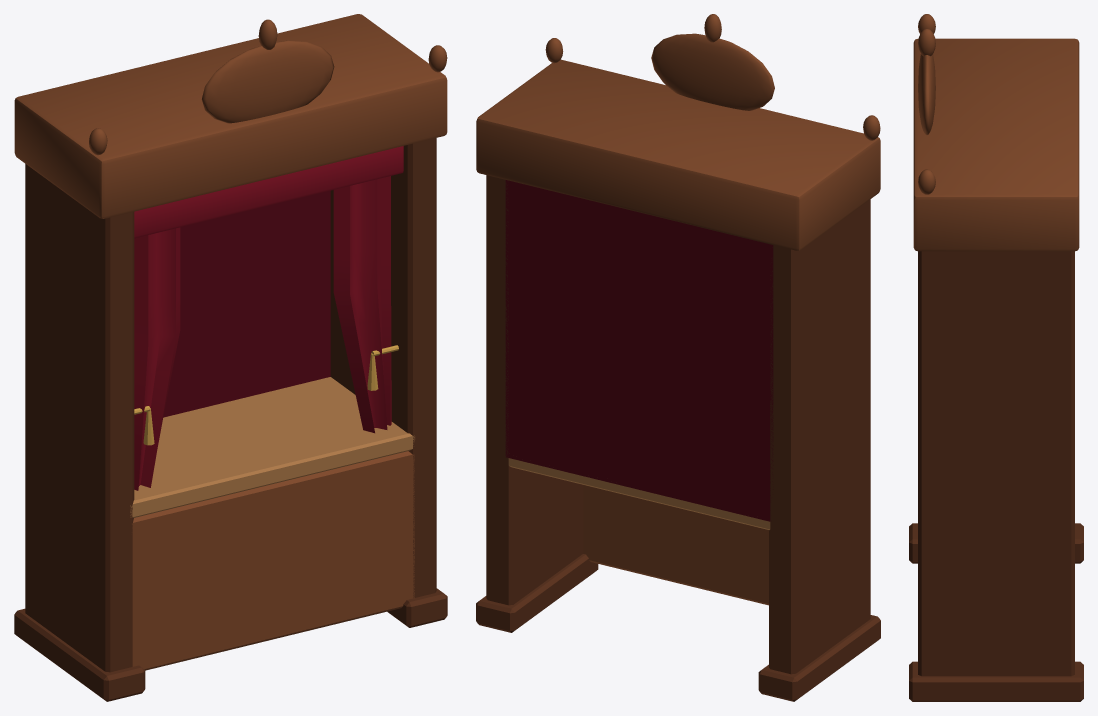
Rendered from PR_PuppetTheatre.fbx.
3 views of the same model, side by side, from view 1: azimuth 30°, elevation 25°; view 2: azimuth 150°, elevation 25°; view 3: azimuth 270°, elevation 25° (orthographic). The views are drawn at different scales.
Visible parts, largest first — view 1: PR_PuppetTheatre_Wood, PR_PuppetTheatre_WoodDark, PR_PuppetTheatre_VelvetDark, PR_PuppetTheatre_Velvet, PR_PuppetTheatre_WoodLight, PR_PuppetTheatre_Tassel; view 2: PR_PuppetTheatre_VelvetDark, PR_PuppetTheatre_Wood, PR_PuppetTheatre_WoodDark, PR_PuppetTheatre_WoodLight; view 3: PR_PuppetTheatre_WoodDark, PR_PuppetTheatre_Wood.
Boxes of the visible parts, x1=… form: PR_PuppetTheatre_Wood: x1=14, y1=14, x2=447, y2=670; PR_PuppetTheatre_WoodDark: x1=14, y1=138, x2=447, y2=701; PR_PuppetTheatre_VelvetDark: x1=163, y1=190, x2=330, y2=417; PR_PuppetTheatre_Velvet: x1=134, y1=146, x2=403, y2=490; PR_PuppetTheatre_WoodLight: x1=130, y1=377, x2=414, y2=517; PR_PuppetTheatre_Tassel: x1=134, y1=345, x2=398, y2=445; PR_PuppetTheatre_VelvetDark: x1=505, y1=180, x2=773, y2=521; PR_PuppetTheatre_Wood: x1=476, y1=14, x2=880, y2=605; PR_PuppetTheatre_WoodDark: x1=476, y1=175, x2=880, y2=701; PR_PuppetTheatre_WoodLight: x1=508, y1=458, x2=770, y2=529; PR_PuppetTheatre_WoodDark: x1=909, y1=251, x2=1083, y2=701; PR_PuppetTheatre_Wood: x1=913, y1=14, x2=1079, y2=251.
Bounding box in the file's own units: 0.858 × 1.46 × 0.39.
